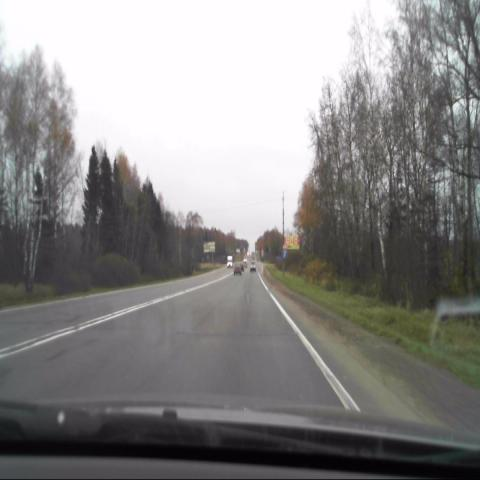5_15_3: (282, 247, 288, 259)
